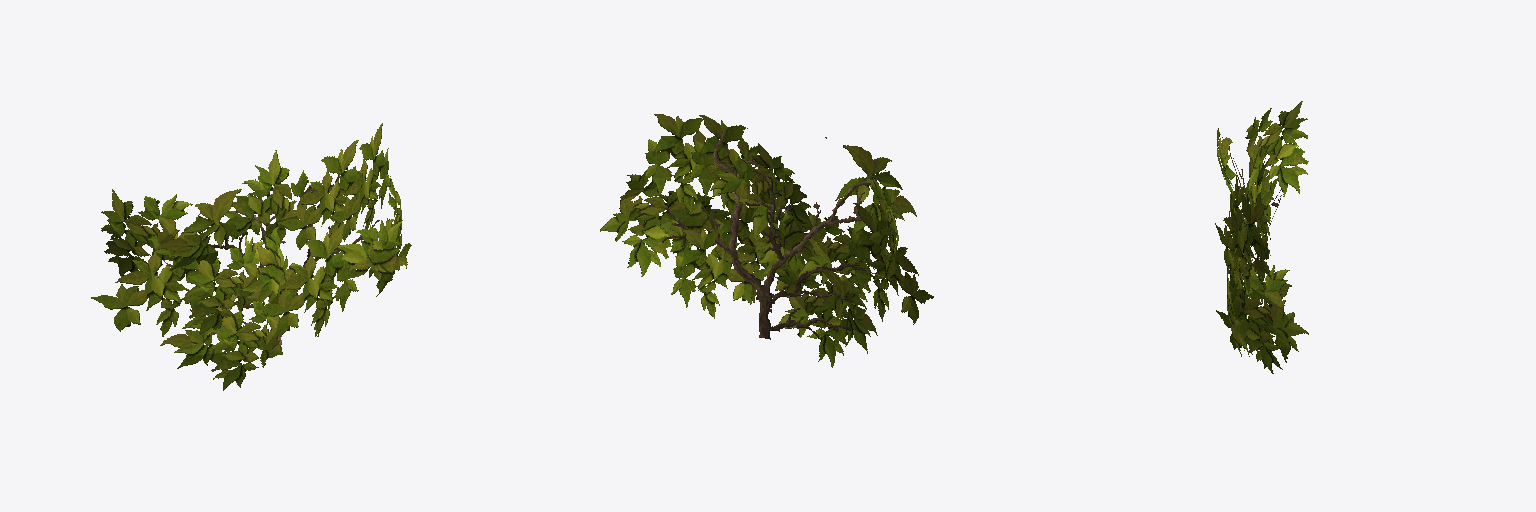
3 views of the same model, side by side, from view 1: azimuth 30°, elevation 25°; view 2: azimuth 150°, elevation 25°; view 3: azimuth 270°, elevation 25° (orthographic).
Parts seen in each view (by area): view 1: bushes03_02; view 2: bushes03_02; view 3: bushes03_02.
Part boxes in pixels (x1,y1,x2,y2): bushes03_02: (91, 123, 411, 390); bushes03_02: (600, 114, 933, 367); bushes03_02: (1215, 101, 1308, 373).
Bounding box in the file's own units: 141 × 109 × 47.81.
1 materials, 1 textured.